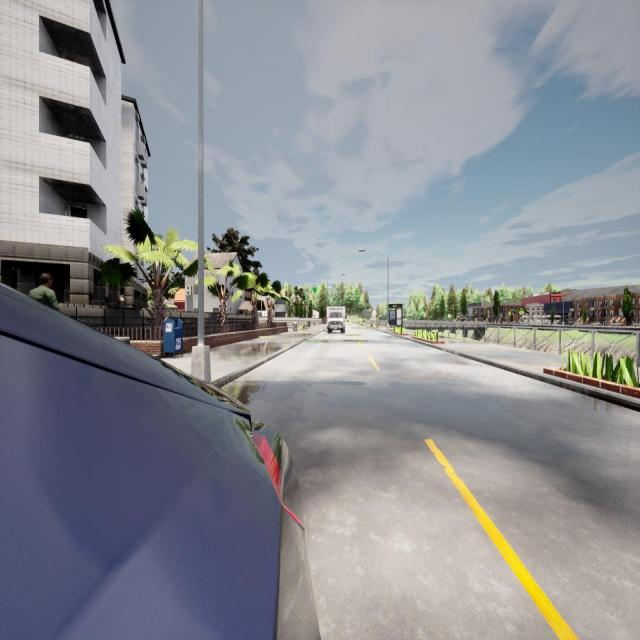Pedestrian: (28, 272, 59, 310)
Vehicle: (0, 284, 319, 638), (326, 306, 346, 333)
